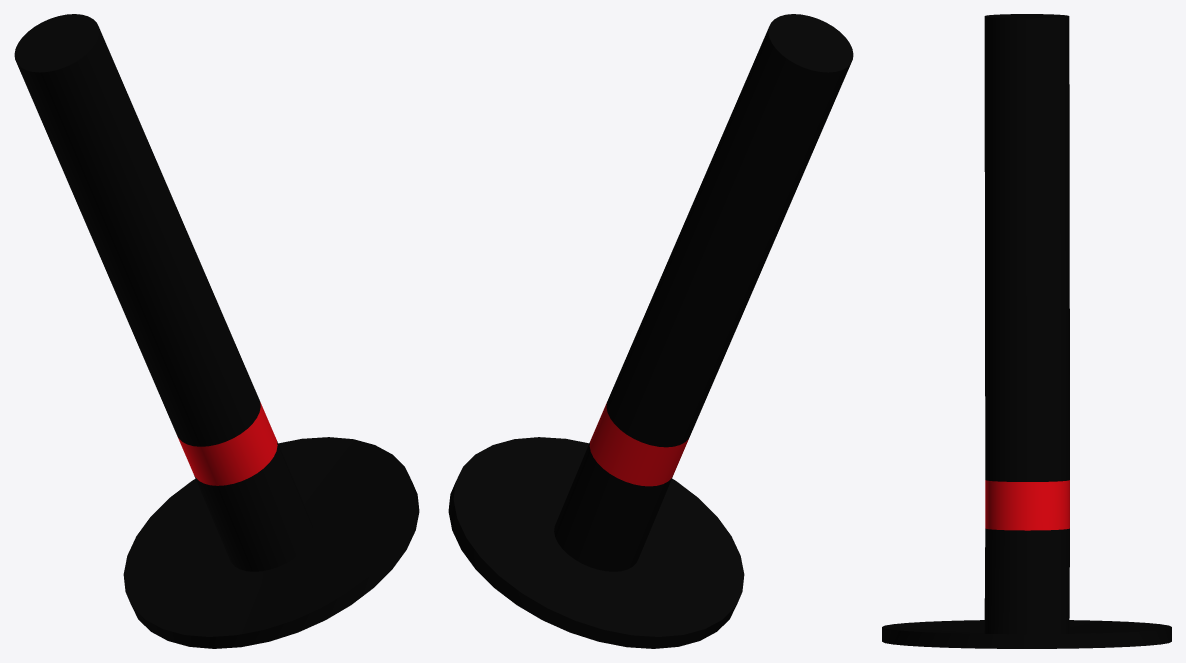
Rendered from Gorro1.fbx.
The picture shows the model from 3 angles, left to right: view 1: azimuth 30°, elevation 25°; view 2: azimuth 150°, elevation 25°; view 3: azimuth 270°, elevation 25°; orthographic projection. The views are drawn at different scales.
Parts seen in each view (by area): view 1: Gorro; view 2: Gorro; view 3: Gorro.
Boxes of the visible parts, <box> form: Gorro: <box>14,14,419,648</box>; Gorro: <box>448,14,853,648</box>; Gorro: <box>882,14,1171,648</box>.
Bounding box in the file's own units: 72.56 × 115 × 51.35.
